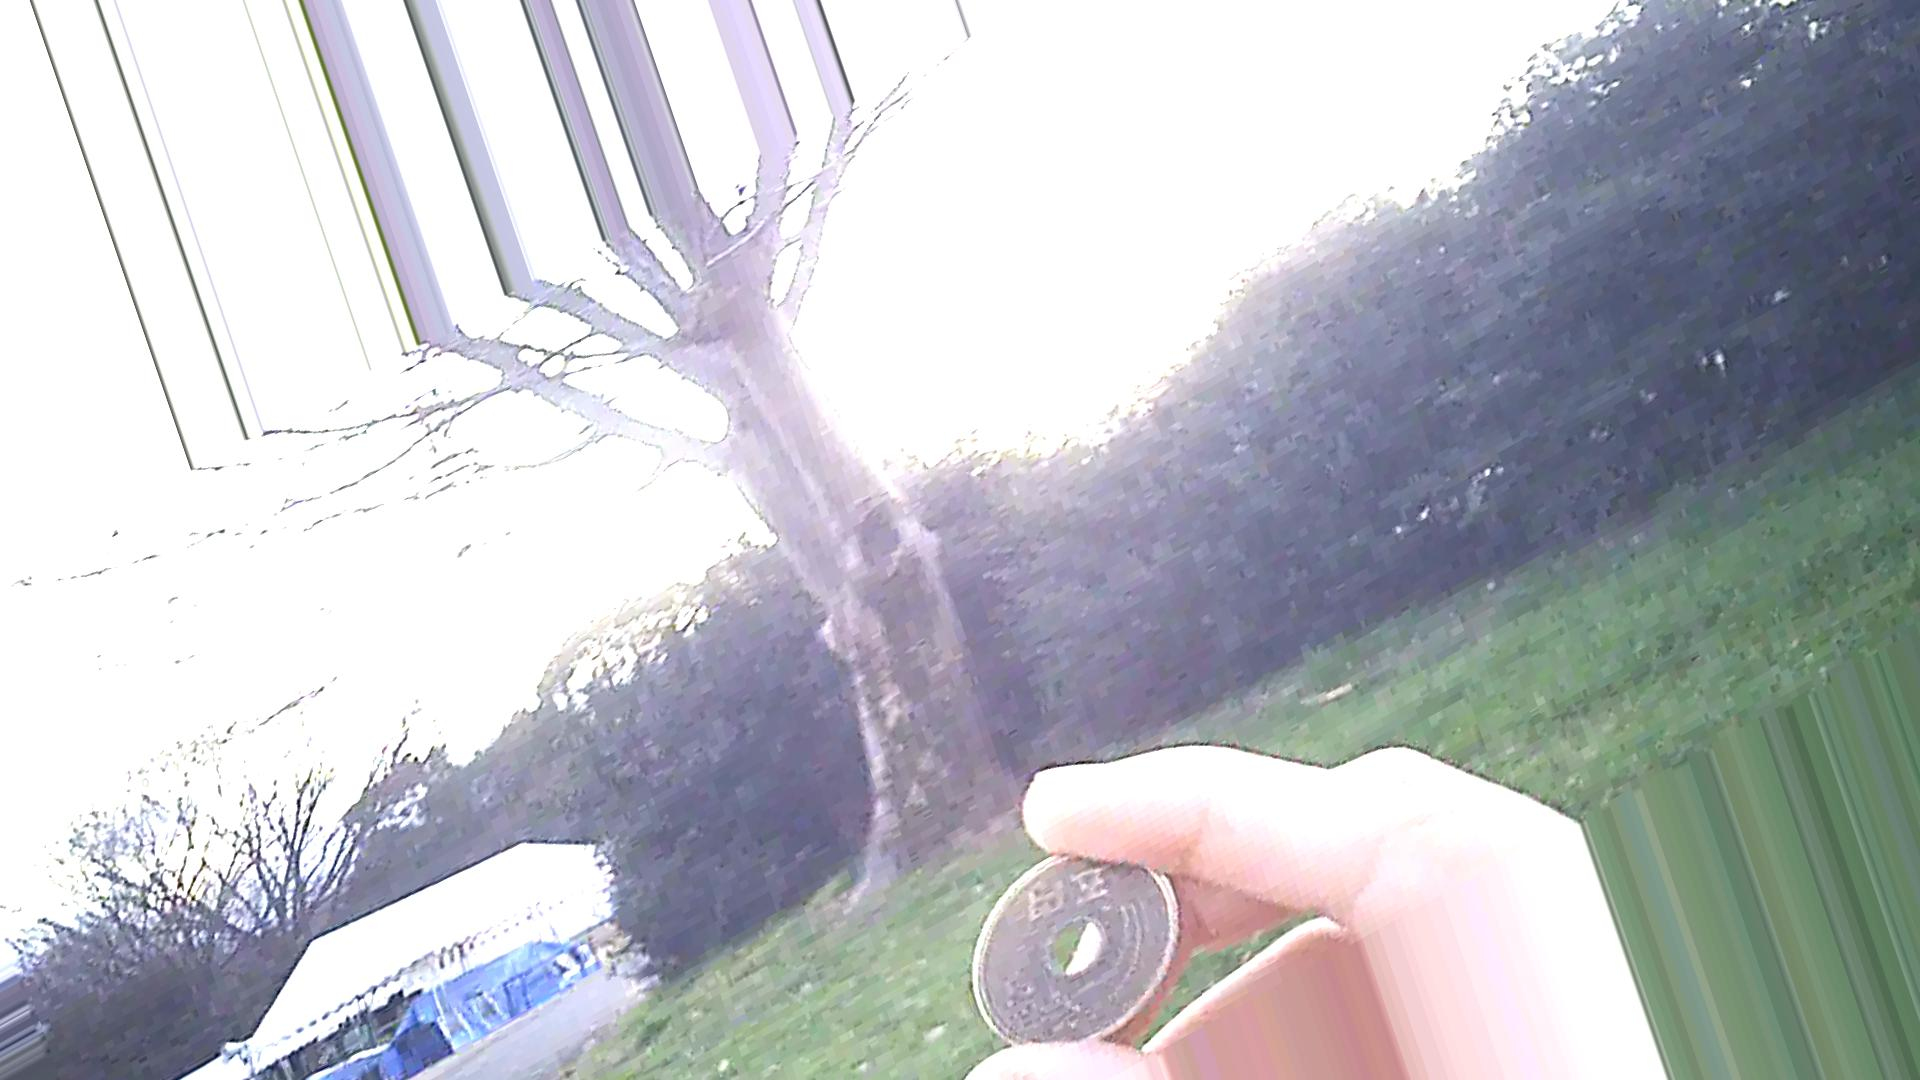5 Yen: (957, 833, 1185, 1051)
